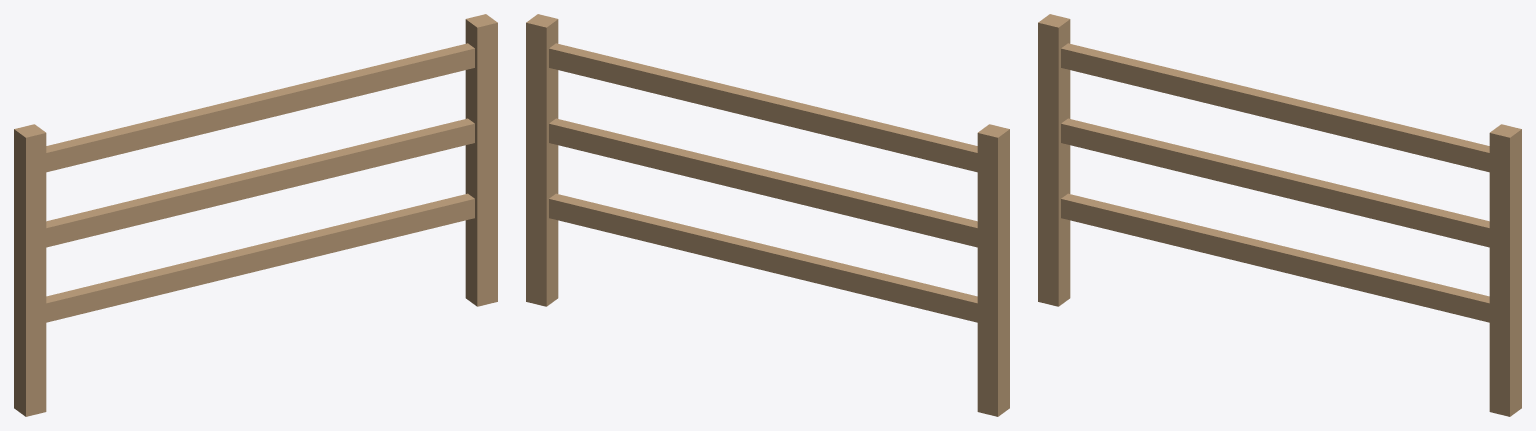
The model's file is StallDivider.gltf.
3 renders of one model, left to right at view 1: azimuth 30°, elevation 25°; view 2: azimuth 150°, elevation 25°; view 3: azimuth 330°, elevation 25°, orthographic.
Visible parts, largest first — view 1: StallDivider; view 2: StallDivider; view 3: StallDivider.
Boxes of the visible parts, x1,y1,x2,y2 form: StallDivider: [14, 14, 497, 416]; StallDivider: [526, 14, 1009, 416]; StallDivider: [1038, 14, 1521, 416].
Bounding box in the file's own units: 2.3 × 1.3 × 0.1.
